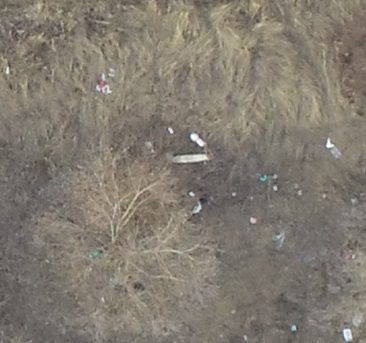opora: (171, 133, 217, 164)
